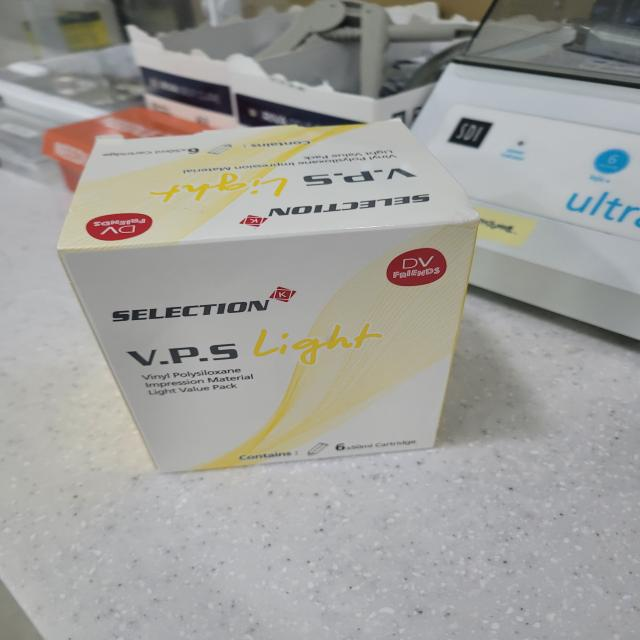impression: (41, 108, 502, 489)
